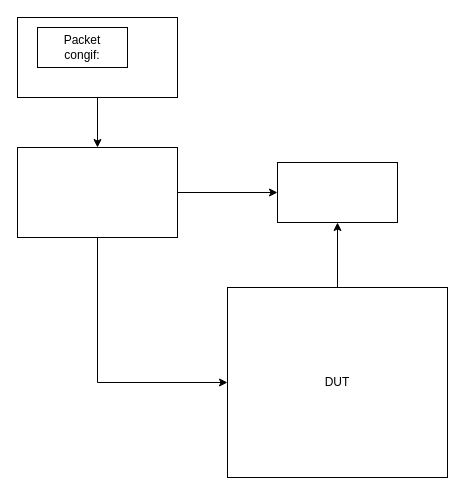
This 465x495 diagram has some shape labels left out. Here are the shapes that lost their labels. From the top down, the centre of each, then its label:
At (x=97, y=192): "Driver".
At (x=337, y=192): "Scoreboard".
